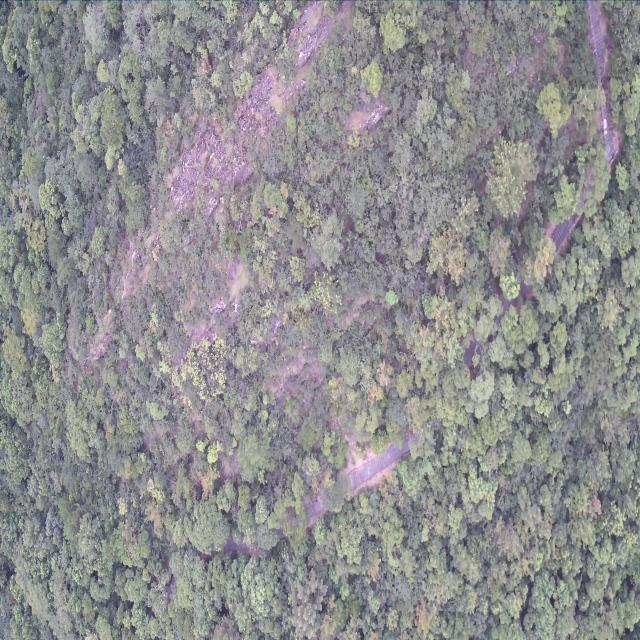drone: (232, 302, 240, 315)
